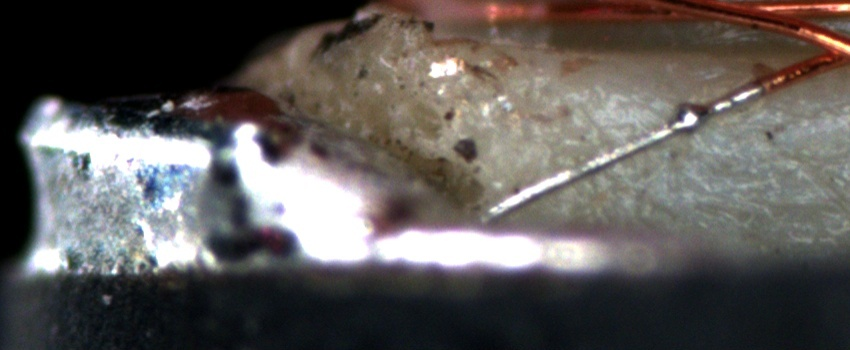CL: (795, 22, 849, 75)
TB: (672, 100, 708, 135)
TS: (478, 80, 765, 228)
TTCW: (471, 62, 803, 224)
